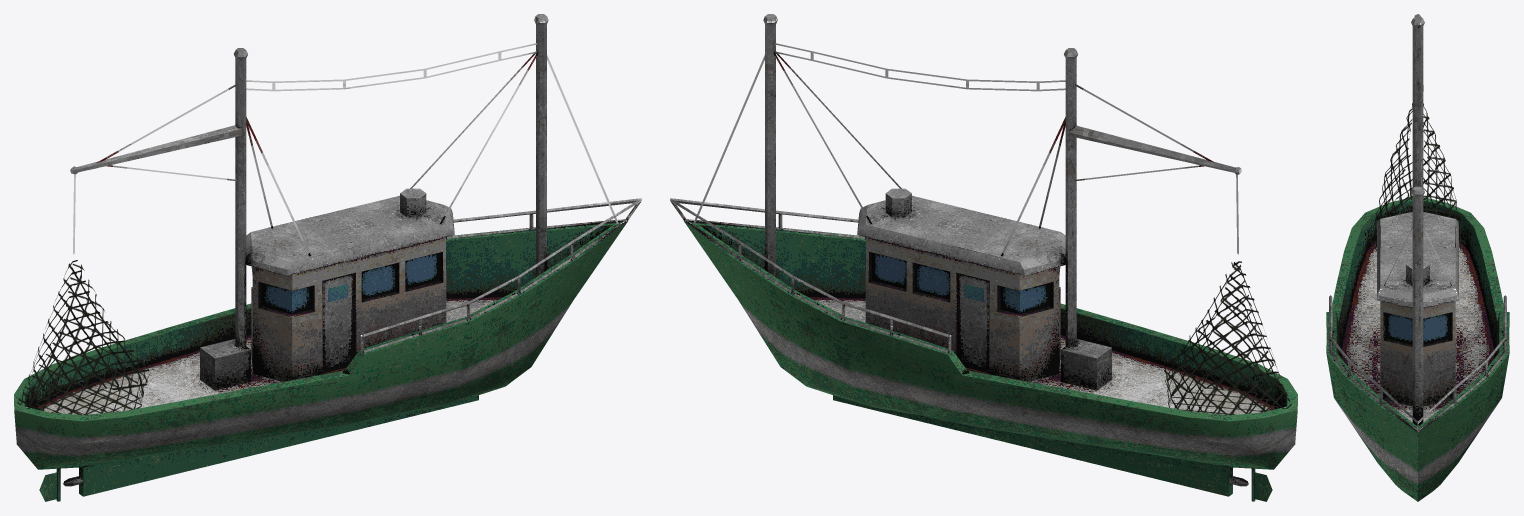
Rendered from BoatFishing2.glb.
3 views of the same model, side by side, from view 1: azimuth 30°, elevation 25°; view 2: azimuth 150°, elevation 25°; view 3: azimuth 270°, elevation 25° (orthographic). The views are drawn at different scales.
Parts seen in each view (by area): view 1: Plane, Cylinder.002, Cube.003, Cube, Cylinder.004, Plane.003, Cylinder.003, Cube.002, Cylinder.006, Plane.010, Cube.004, Plane.007 (+2 smaller); view 2: Plane, Cylinder.002, Cube.003, Cube, Cylinder.004, Plane.003, Cylinder.003, Cube.002, Cylinder.006, Plane.010, Cube.004, Plane.007 (+2 smaller); view 3: Plane, Cylinder.002, Cube.003, Cylinder.003, Cylinder.004, Plane.003, Cube.004, Cylinder.005.
Part boxes in pixels (left/top/right/bottom): Plane: left=14, top=221, right=627, bottom=469; Cylinder.002: left=246, top=195, right=454, bottom=381; Cube.003: left=17, top=260, right=150, bottom=415; Cube: left=79, top=395, right=478, bottom=496; Cylinder.004: left=234, top=48, right=247, bottom=346; Plane.003: left=360, top=198, right=641, bottom=354; Cylinder.003: left=534, top=14, right=548, bottom=276; Cube.002: left=200, top=339, right=250, bottom=390; Cylinder.006: left=70, top=125, right=242, bottom=174; Plane.010: left=246, top=43, right=537, bottom=91; Cube.004: left=18, top=261, right=148, bottom=414; Plane.007: left=410, top=51, right=537, bottom=223; Plane: left=684, top=221, right=1297, bottom=469; Cylinder.002: left=857, top=195, right=1065, bottom=381; Cube.003: left=1164, top=261, right=1291, bottom=415; Cube: left=833, top=395, right=1232, bottom=496; Cylinder.004: left=1064, top=48, right=1077, bottom=346; Plane.003: left=670, top=198, right=951, bottom=354; Cylinder.003: left=763, top=14, right=777, bottom=276; Cube.002: left=1061, top=339, right=1111, bottom=390; Cylinder.006: left=1069, top=125, right=1241, bottom=174; Plane.010: left=774, top=43, right=1065, bottom=91; Cube.004: left=1164, top=261, right=1288, bottom=413; Plane.007: left=774, top=51, right=901, bottom=223; Plane: left=1326, top=197, right=1509, bottom=501; Cylinder.002: left=1377, top=212, right=1458, bottom=406; Cube.003: left=1370, top=103, right=1465, bottom=250; Cylinder.003: left=1411, top=186, right=1424, bottom=425; Cylinder.004: left=1411, top=17, right=1424, bottom=187; Plane.003: left=1329, top=295, right=1506, bottom=432; Cube.004: left=1372, top=106, right=1463, bottom=249; Cylinder.005: left=1406, top=260, right=1429, bottom=286.
Size of the model in its own units: 3.54 by 2.19 by 0.9832.
2 materials, 2 textured.
